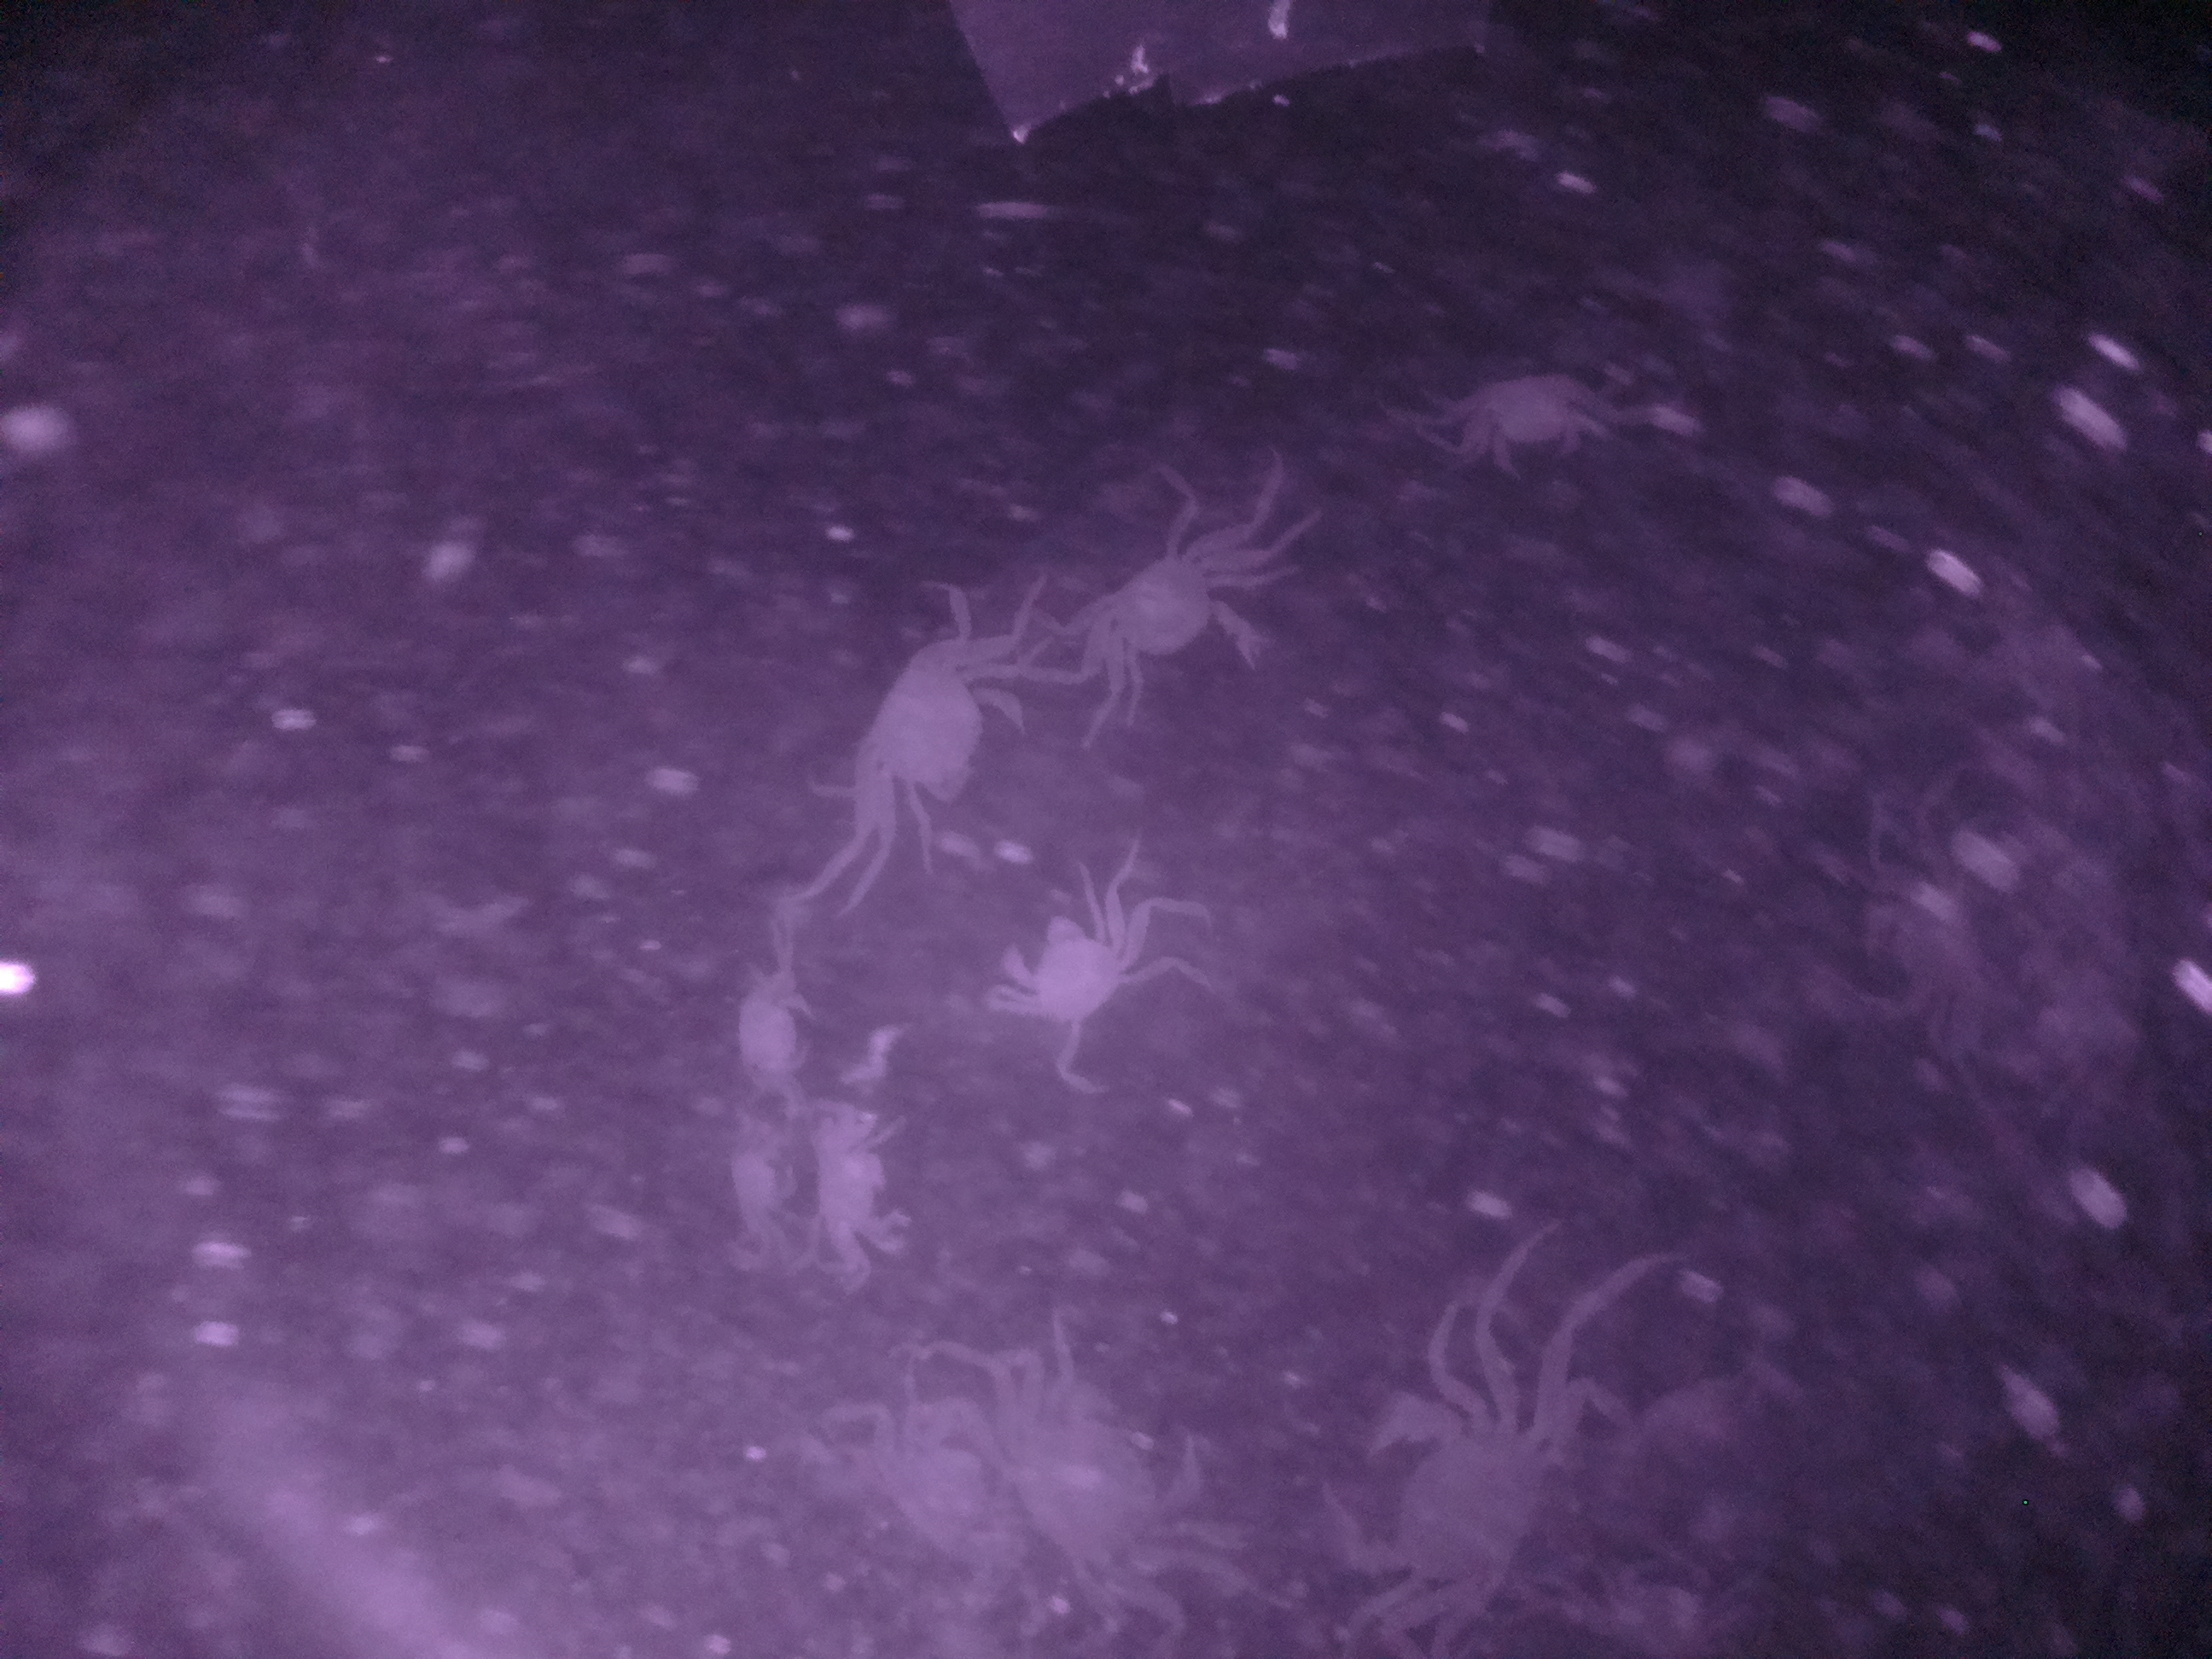Crab: (820, 612, 1022, 824), (1068, 516, 1263, 711), (988, 894, 1148, 1053), (1442, 362, 1595, 486)
